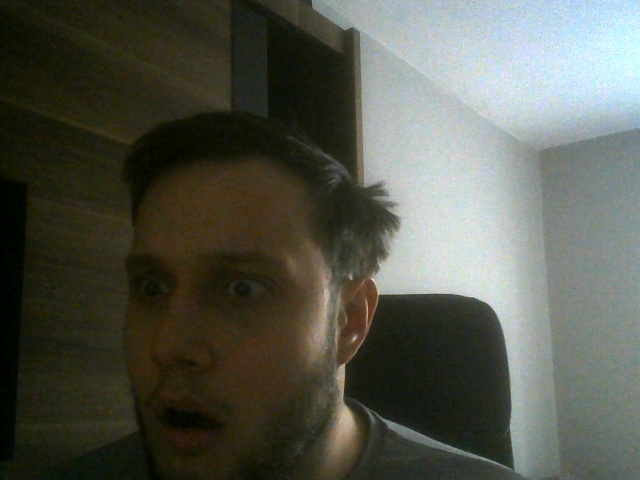surprised: (123, 116, 380, 480)
